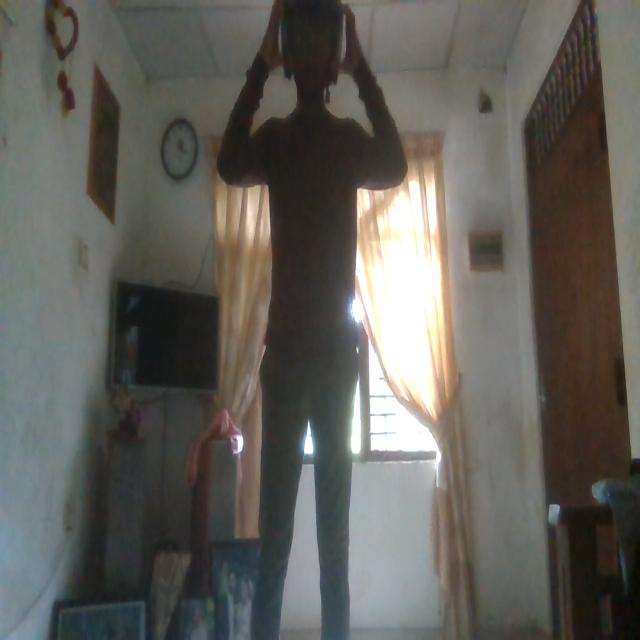Helmet_Wearer: (274, 0, 349, 100)
Person: (234, 5, 394, 640)
